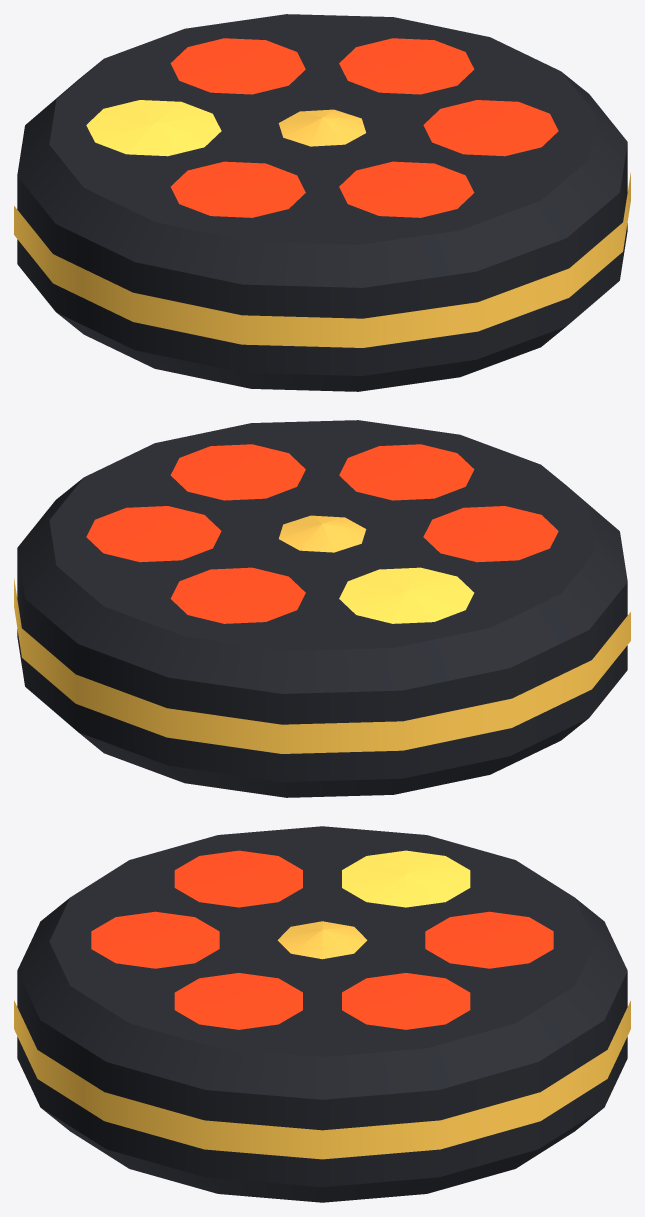
Rendered from tb_chambers_5.glb.
3 renders of one model, top to bottom at view 1: azimuth 30°, elevation 25°; view 2: azimuth 150°, elevation 25°; view 3: azimuth 270°, elevation 25°, orthographic.
Parts seen in each view (by area): view 1: tb_chambers_5; view 2: tb_chambers_5; view 3: tb_chambers_5.
Boxes of the visible parts, x1,y1,x2,y2 form: tb_chambers_5: (14, 14, 630, 391); tb_chambers_5: (14, 420, 630, 797); tb_chambers_5: (14, 826, 630, 1202).
Size of the model in its own units: 0.192 by 0.054 by 0.192.
